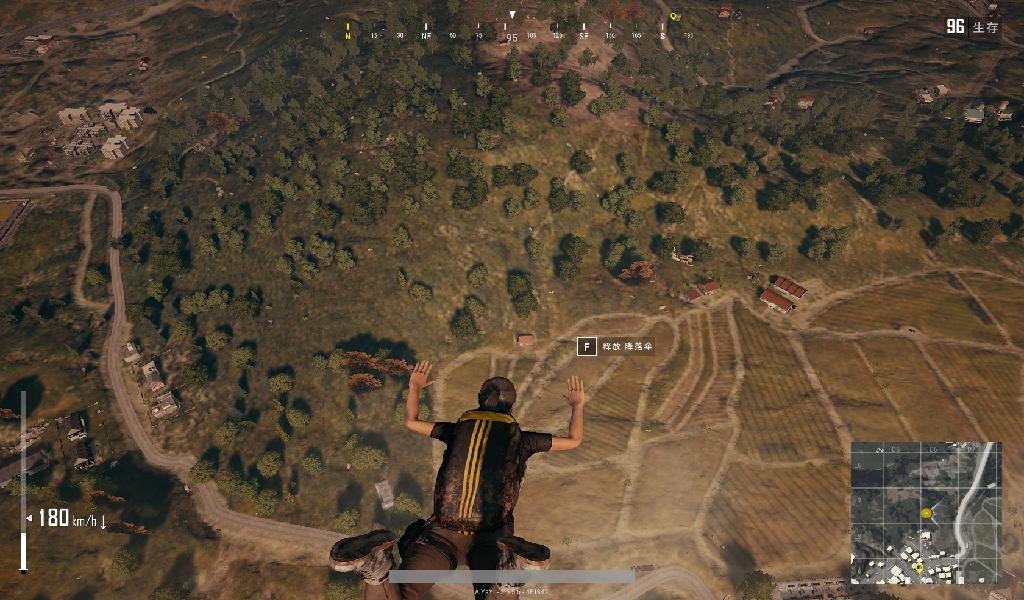Target Person: (329, 359, 587, 600)
